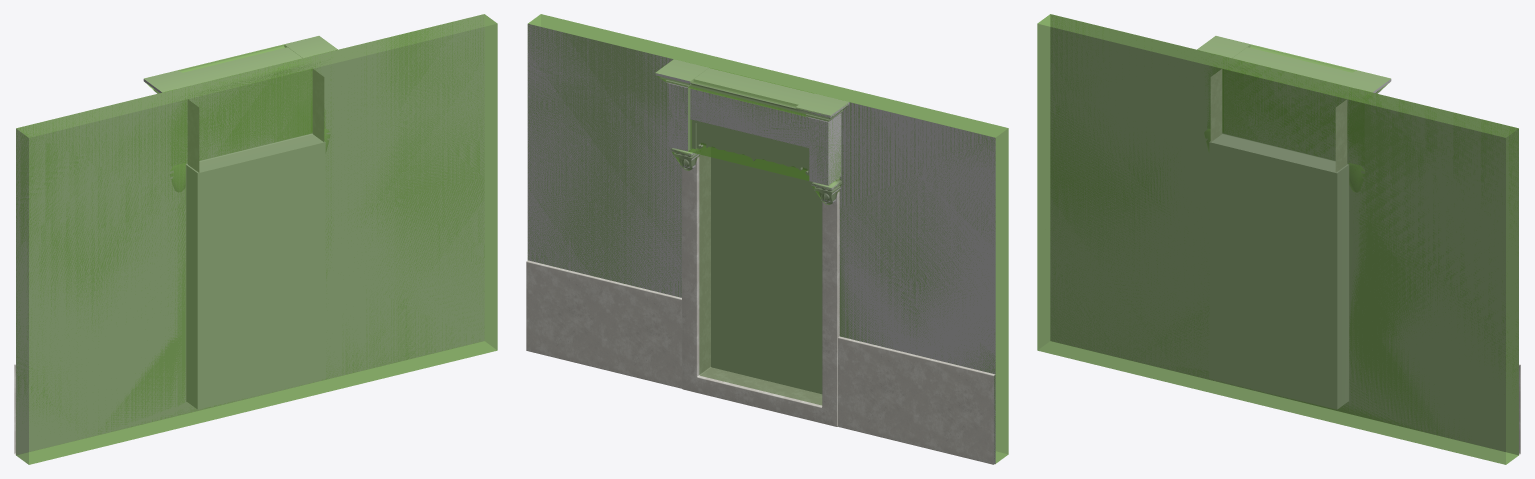
The model's file is F9_md_Wall_4x6_WL_01.fbx.
The picture shows the model from 3 angles, left to right: view 1: azimuth 30°, elevation 25°; view 2: azimuth 150°, elevation 25°; view 3: azimuth 330°, elevation 25°; orthographic projection.
Visible parts, largest first — view 1: F9_md_Wall_4x6_WL_01_col_3, F9_md_Wall_4x6_WL_01_LOD0, F9_md_Wall_4x6_WL_01_col_5, F9_md_Wall_4x6_WL_01_col_4; view 2: F9_md_Wall_4x6_WL_01_LOD0, F9_md_Wall_4x6_WL_01_col_3, F9_md_Wall_4x6_WL_01_col_5, F9_md_Wall_4x6_WL_01_col_4, F9_md_Wall_4x6_WL_01_col_7, F9_md_Wall_4x6_WL_01_col_6; view 3: F9_md_Wall_4x6_WL_01_col_3, F9_md_Wall_4x6_WL_01_LOD0, F9_md_Wall_4x6_WL_01_col_4, F9_md_Wall_4x6_WL_01_col_5, F9_md_Wall_4x6_WL_01_col_6.
Part boxes in pixels (left/top/right/bottom): F9_md_Wall_4x6_WL_01_col_3: left=16, top=14, right=497, bottom=464; F9_md_Wall_4x6_WL_01_LOD0: left=14, top=14, right=484, bottom=455; F9_md_Wall_4x6_WL_01_col_5: left=201, top=69, right=312, bottom=158; F9_md_Wall_4x6_WL_01_col_4: left=144, top=36, right=337, bottom=93; F9_md_Wall_4x6_WL_01_LOD0: left=526, top=24, right=995, bottom=464; F9_md_Wall_4x6_WL_01_col_3: left=527, top=14, right=1008, bottom=463; F9_md_Wall_4x6_WL_01_col_5: left=688, top=89, right=809, bottom=180; F9_md_Wall_4x6_WL_01_col_4: left=655, top=59, right=848, bottom=121; F9_md_Wall_4x6_WL_01_col_7: left=810, top=115, right=841, bottom=184; F9_md_Wall_4x6_WL_01_col_6: left=669, top=85, right=691, bottom=150; F9_md_Wall_4x6_WL_01_col_3: left=1037, top=14, right=1518, bottom=464; F9_md_Wall_4x6_WL_01_LOD0: left=1050, top=14, right=1520, bottom=455; F9_md_Wall_4x6_WL_01_col_4: left=1197, top=36, right=1390, bottom=102; F9_md_Wall_4x6_WL_01_col_5: left=1222, top=69, right=1334, bottom=146; F9_md_Wall_4x6_WL_01_col_6: left=1348, top=100, right=1364, bottom=165.
Size of what is drawn, in the model's own units: 600 by 400 by 70.86.
